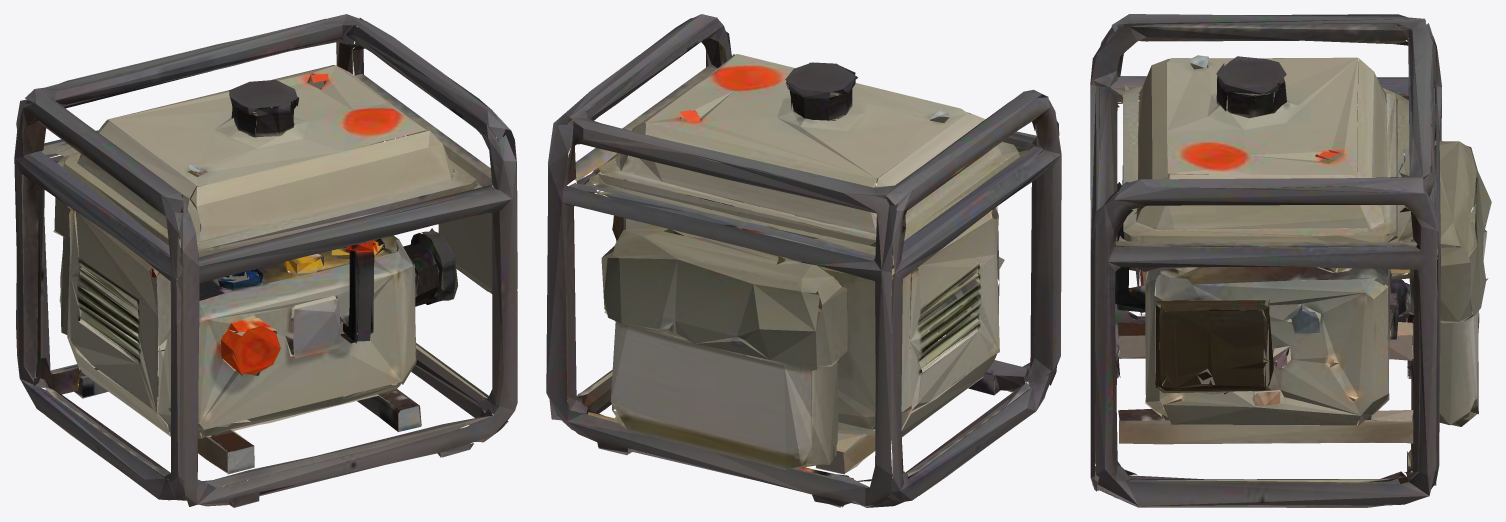
The model's file is generator.glb.
3 renders of one model, left to right at view 1: azimuth 30°, elevation 25°; view 2: azimuth 150°, elevation 25°; view 3: azimuth 270°, elevation 25°, orthographic. The views are drawn at different scales.
Visible parts, largest first — view 1: obj.obj; view 2: obj.obj; view 3: obj.obj.
Part boxes in pixels (<box>): obj.obj: <box>14,14,517,507</box>; obj.obj: <box>546,14,1061,507</box>; obj.obj: <box>1090,14,1491,507</box>.
Size of the model in its own units: 0.957 by 0.85 by 0.885.
1 material, 1 textured.
